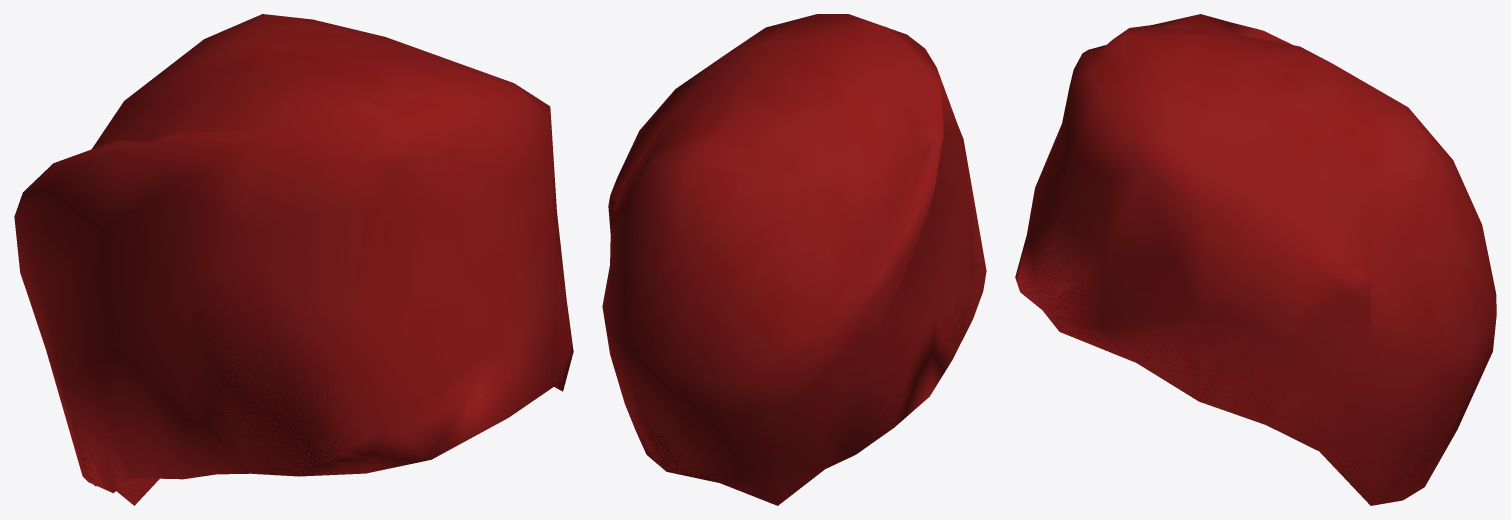
File: helmet_fez.dae
The picture shows the model from 3 angles, left to right: view 1: azimuth 30°, elevation 25°; view 2: azimuth 150°, elevation 25°; view 3: azimuth 270°, elevation 25°; orthographic projection. The views are drawn at different scales.
Visible parts, largest first — view 1: fez; view 2: fez; view 3: fez.
Part boxes in pixels (bbox=[...]): fez: bbox=[14, 14, 573, 505]; fez: bbox=[602, 14, 986, 505]; fez: bbox=[1015, 14, 1496, 505].
Size of the model in its own units: 0.4145 by 0.4973 by 0.4762.
